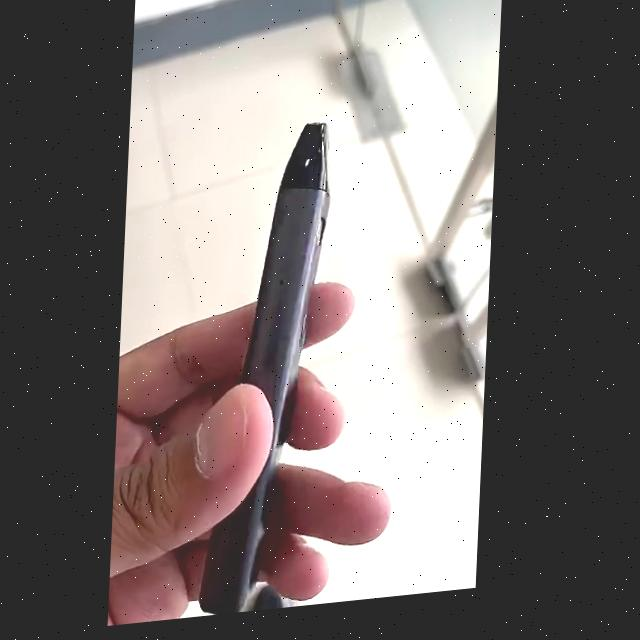vape: (202, 124, 339, 621)
